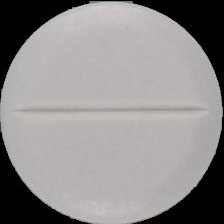0615-2547: (0, 0, 224, 224)
